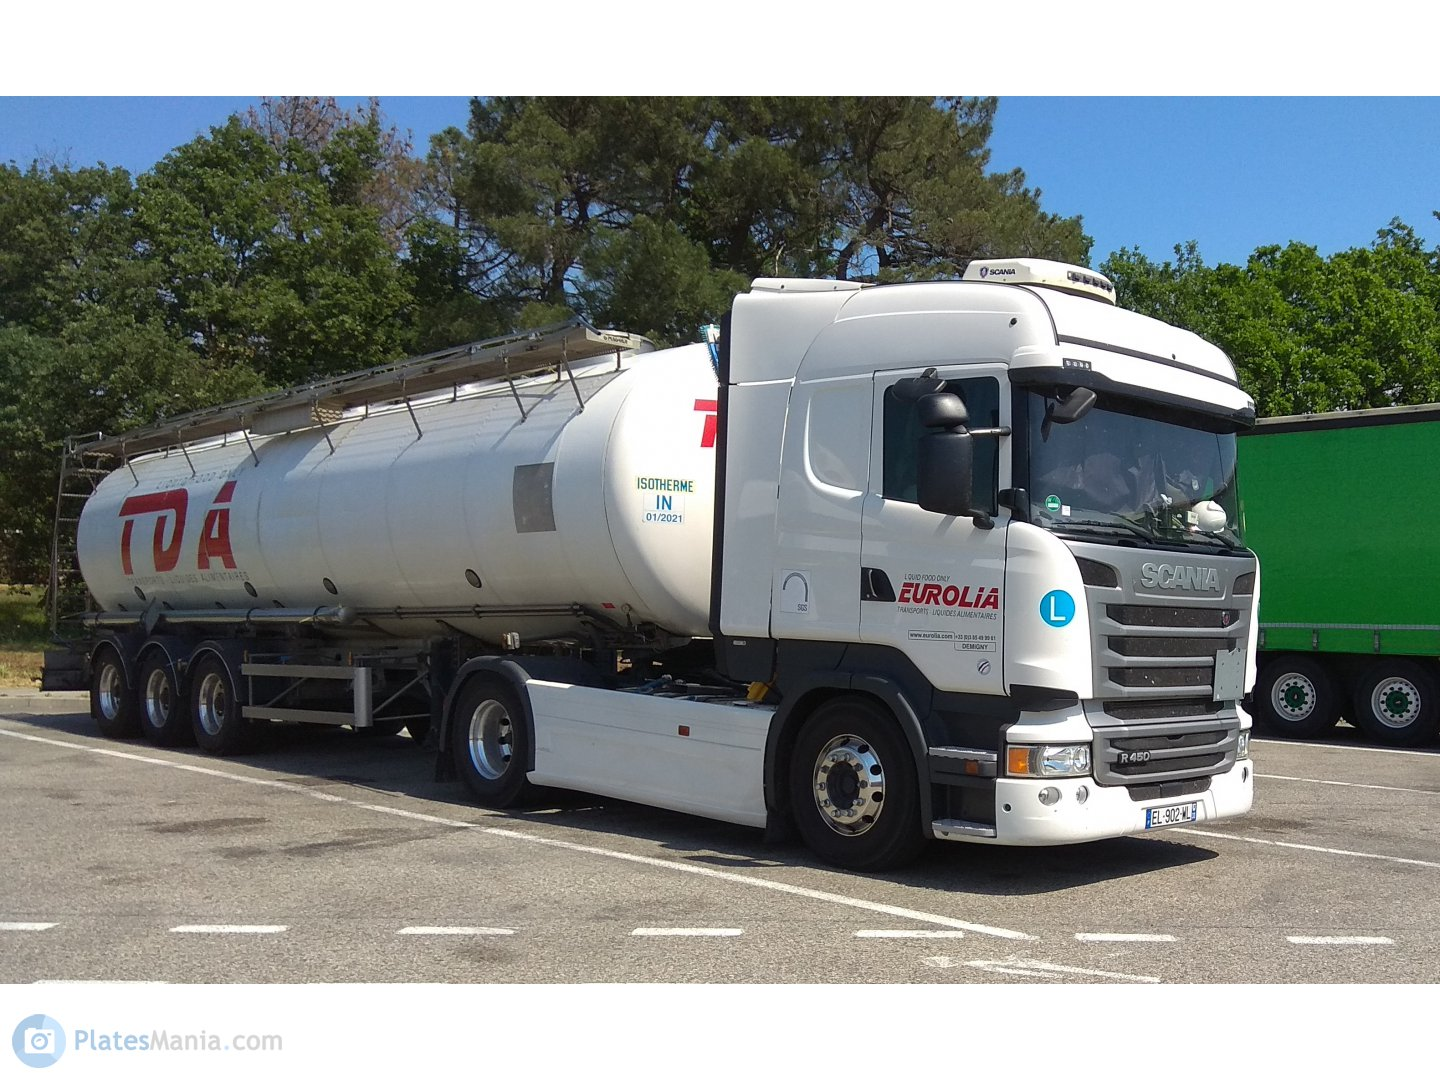licence plate: (1142, 798, 1202, 833)
